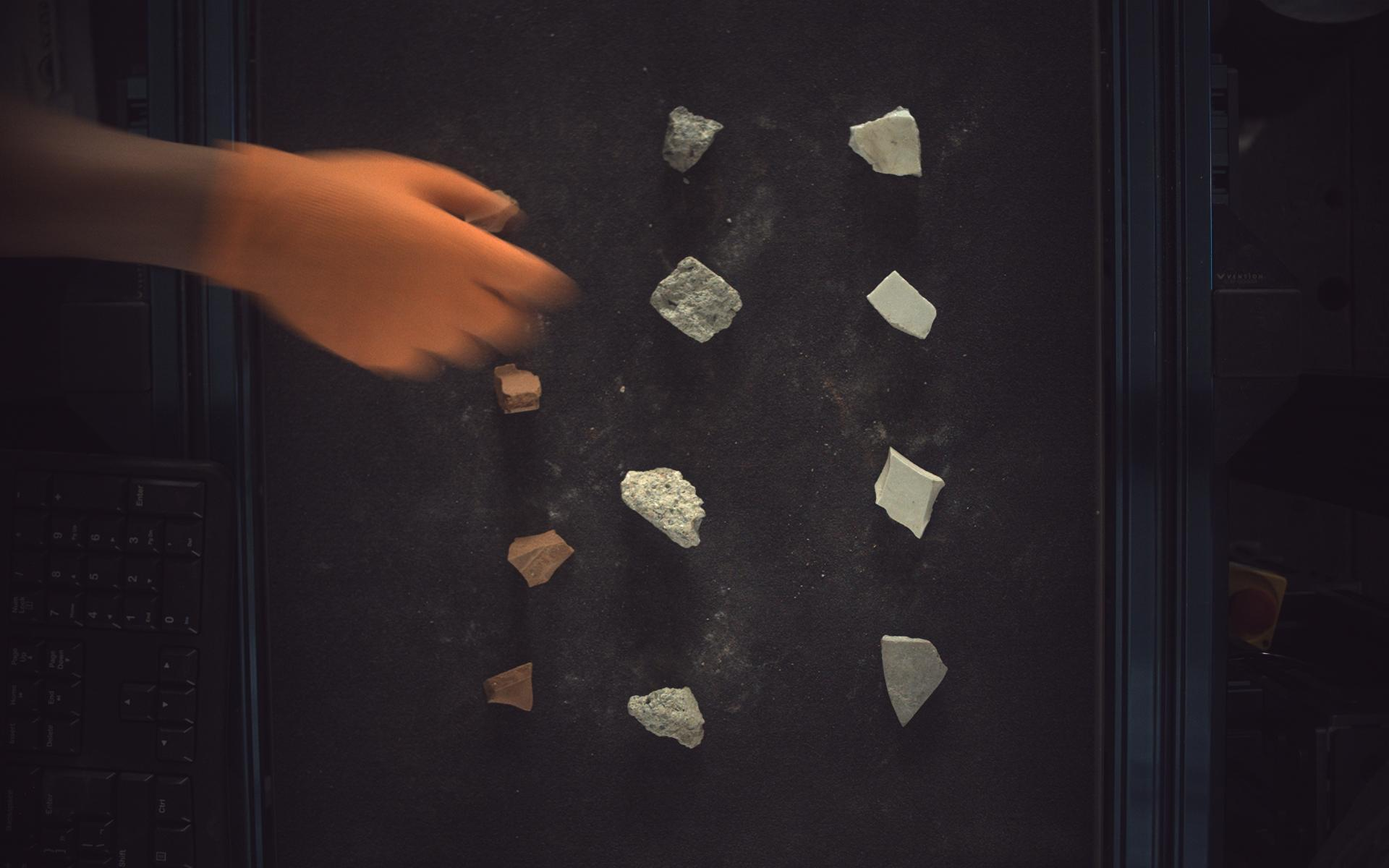brick: (509, 531, 574, 587), (483, 663, 534, 712), (495, 363, 542, 414)
concrete: (651, 256, 743, 343), (621, 468, 706, 549), (629, 689, 705, 749), (663, 105, 724, 171)
tile: (876, 448, 946, 539), (883, 637, 950, 727), (851, 106, 922, 176), (869, 271, 938, 339)
